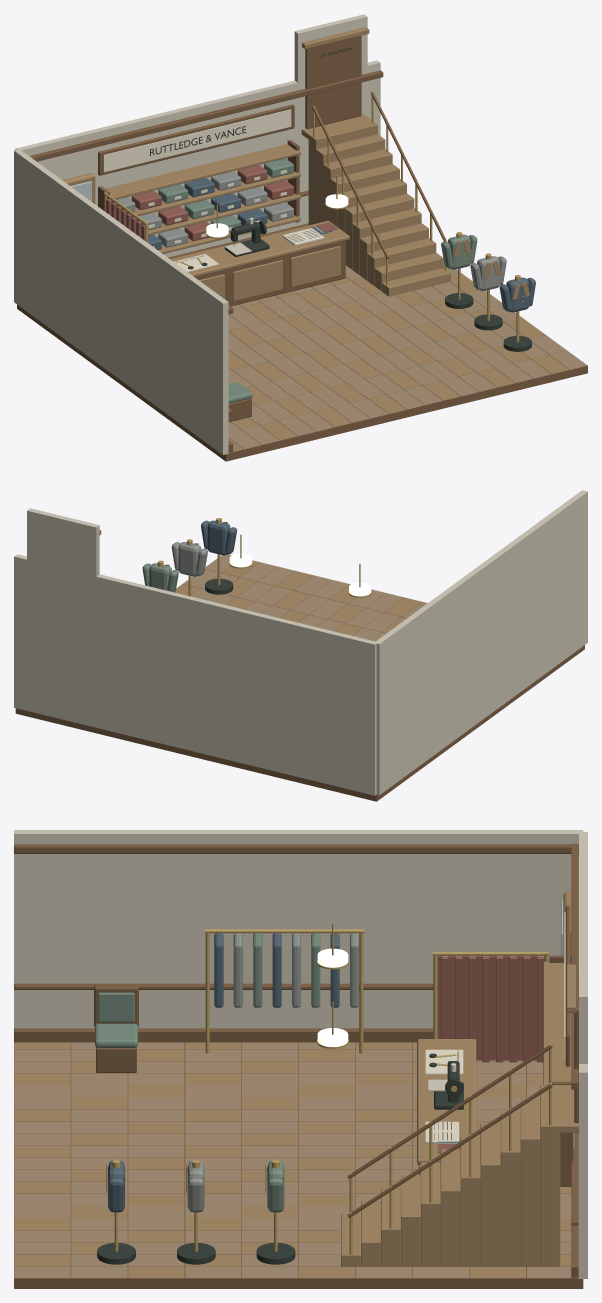
File: interior-tailor.glb
3 views of the same model, one above another, from view 1: azimuth 30°, elevation 25°; view 2: azimuth 150°, elevation 25°; view 3: azimuth 270°, elevation 25° (orthographic). The views are drawn at different scales.
Parts seen in each view (by area): view 1: parquet plank, side plaster, parquet plank.001, rear plaster, rear moulding, salon foundation, fabric shelf, bolt label, measurement ruled line, folded wool.002, folded wool.003, needle (+8 smaller); view 2: rear plaster, side plaster, parquet plank.001, salon foundation, parquet plank, cloth swatch.001, cloth swatch.002, cloth swatch, opal pendant, needle; view 3: side plaster, parquet plank.001, parquet plank, side moulding, salon foundation, cloth swatch.003, needle, rear moulding, cloth swatch, rear plaster, fabric shelf, measurement ruled line (+4 smaller).
Boxes of the visible parts, bbox=[...] form: parquet plank: bbox=[170, 114, 569, 452]; side plaster: bbox=[14, 149, 228, 454]; parquet plank.001: bbox=[228, 261, 587, 449]; rear plaster: bbox=[15, 14, 380, 257]; rear moulding: bbox=[29, 35, 383, 258]; salon foundation: bbox=[17, 92, 587, 461]; fabric shelf: bbox=[62, 27, 369, 253]; bolt label: bbox=[103, 109, 291, 247]; measurement ruled line: bbox=[176, 221, 531, 351]; folded wool.002: bbox=[116, 171, 293, 247]; folded wool.003: bbox=[131, 165, 293, 241]; needle: bbox=[103, 91, 523, 342]; rear plaster: bbox=[14, 508, 377, 795]; side plaster: bbox=[375, 490, 587, 795]; parquet plank.001: bbox=[183, 554, 427, 641]; salon foundation: bbox=[15, 564, 584, 801]; parquet plank: bbox=[165, 522, 421, 635]; cloth swatch.001: bbox=[201, 520, 237, 555]; cloth swatch.002: bbox=[171, 542, 207, 576]; cloth swatch: bbox=[142, 563, 178, 592]; opal pendant: bbox=[229, 553, 371, 596]; needle: bbox=[157, 518, 371, 636]; side plaster: bbox=[14, 830, 583, 1028]; parquet plank.001: bbox=[14, 1042, 578, 1278]; parquet plank: bbox=[14, 1039, 578, 1278]; side moulding: bbox=[14, 844, 578, 1042]; salon foundation: bbox=[14, 985, 583, 1288]; cloth swatch.003: bbox=[437, 955, 544, 1153]; needle: bbox=[106, 923, 551, 1254]; rear moulding: bbox=[549, 843, 578, 1277]; cloth swatch: bbox=[95, 933, 460, 1212]; rear plaster: bbox=[579, 832, 587, 1278]; fabric shelf: bbox=[543, 892, 575, 1152]; measurement ruled line: bbox=[97, 1050, 463, 1264].
Bounding box in the file's own units: 10.08 × 5.49 × 10.08.
